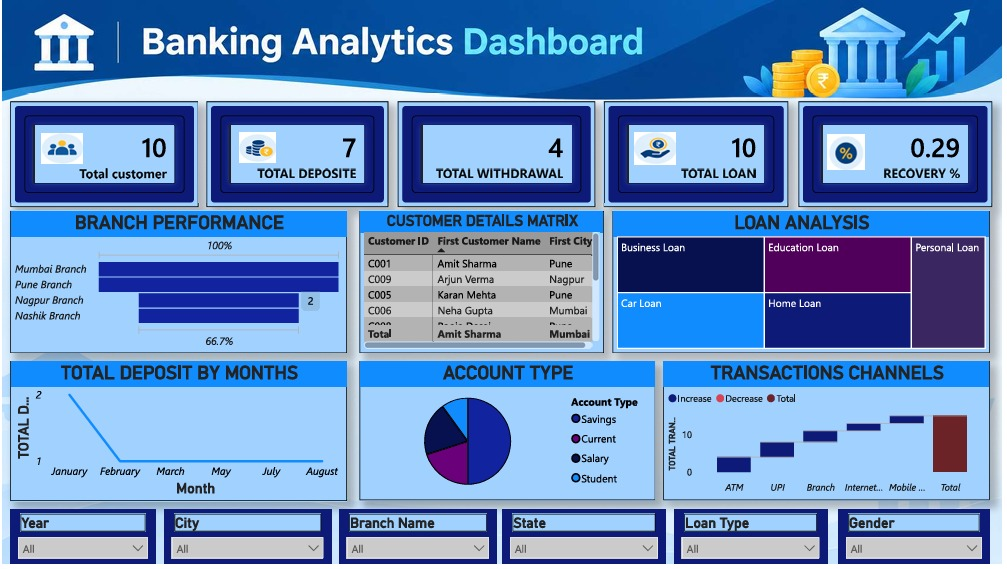

This screenshot's page, from the dashboard's own definition file:
{"tool":"powerbi","page":{"name":"DASHBOARD","canvas":[1280,720],"ordinal":0},"visuals":[{"type":"image","box":[0,0,1280,720],"z":0},{"type":"cardVisual","fields":{"Data":["Customer Table.Total customer"]},"box":[10,128.6,241.4,135.7],"z":1},{"type":"cardVisual","fields":{"Data":["Transaction.TOTAL DEPOSITE"]},"box":[261.4,128.6,232.9,135.7],"z":2},{"type":"cardVisual","fields":{"Data":["Transaction.TOTAL WITHDRAW"]},"box":[505.7,128.6,252.9,135.7],"z":3},{"type":"cardVisual","fields":{"Data":["Loan.TOTAL LOAN"]},"box":[770,128.6,235.7,135.7],"z":4},{"type":"cardVisual","fields":{"Data":["Loan.RECOVERY %"]},"box":[1018.6,128.6,248.6,135.7],"z":5},{"type":"image","box":[50,162.9,52.9,52.9],"z":6},{"type":"image","box":[302.9,160,48.6,55.7],"z":7},{"type":"image","box":[808.6,162.9,54.3,52.9],"z":8},{"type":"image","box":[1055.7,162.9,48.6,62.9],"z":9},{"type":"funnel","title":"BRANCH PERFORMANCE","fields":{"Category":["Branch.Branch Name"],"Y":["Customer Table.Total customer"]},"box":[10,268.6,431.4,182.9],"z":10},{"type":"pivotTable","title":"CUSTOMER DETAILS MATRIX","fields":{"Rows":["Customer Table.Customer ID"],"Values":["Min(Customer Table.Customer Name)","Min(Customer Table.City)"]},"box":[457.1,268.6,312.9,182.9],"z":11},{"type":"treemap","title":"LOAN ANALYSIS","fields":{"Group":["Loan.Loan Type"],"Values":["Loan.TOTAL LOAN"]},"box":[781.4,268.6,482.9,182.9],"z":12},{"type":"lineChart","title":"TOTAL DEPOSIT BY MONTHS","fields":{"Category":["Account.Open Date.Variation.Date Hierarchy.Month"],"Y":["Transaction.TOTAL DEPOSITE"]},"box":[10,461.4,431.4,178.6],"z":13},{"type":"pieChart","title":"ACCOUNT TYPE","fields":{"Category":["Account.Account Type"],"Y":["Account.TOTAL ACCOUNT"]},"box":[457.1,461.4,378.6,177.1],"z":14},{"type":"waterfallChart","title":"TRANSACTIONS CHANNELS ","fields":{"Category":["Transaction.Channel"],"Y":["Account.TOTAL TRANSACTIONS"]},"box":[845.7,461.4,418.6,177.1],"z":15},{"type":"slicer","fields":{"Values":["Account.Open Date.Variation.Date Hierarchy.Year"]},"box":[10,651.4,185.7,68.6],"z":16},{"type":"slicer","fields":{"Values":["Branch.City"]},"box":[207.1,651.4,214.3,68.6],"z":17},{"type":"slicer","fields":{"Values":["Branch.Branch Name"]},"box":[431.4,651.4,201.4,68.6],"z":18},{"type":"slicer","fields":{"Values":["Customer Table.State"]},"box":[640,651.4,208.6,68.6],"z":19},{"type":"slicer","fields":{"Values":["Loan.Loan Type"]},"box":[860,651.4,195.7,68.6],"z":20},{"type":"slicer","fields":{"Values":["Customer Table.Gender"]},"box":[1070,651.4,194.3,68.6],"z":21}]}

Visuals, with their boxes in screenshot pixels (x1, y1, x2, y2), scaled from the page's 1280x720 canvas onto the 1007x569 screenshot:
image: (left=0, top=0, right=1006, bottom=568)
cardVisual - Customer Table.Total customer: (left=8, top=102, right=198, bottom=209)
cardVisual - Transaction.TOTAL DEPOSITE: (left=206, top=102, right=389, bottom=209)
cardVisual - Transaction.TOTAL WITHDRAW: (left=398, top=102, right=597, bottom=209)
cardVisual - Loan.TOTAL LOAN: (left=606, top=102, right=791, bottom=209)
cardVisual - Loan.RECOVERY %: (left=801, top=102, right=997, bottom=209)
image: (left=39, top=129, right=81, bottom=171)
image: (left=238, top=126, right=277, bottom=170)
image: (left=636, top=129, right=679, bottom=171)
image: (left=831, top=129, right=869, bottom=178)
"BRANCH PERFORMANCE" funnel: (left=8, top=212, right=347, bottom=357)
"CUSTOMER DETAILS MATRIX" pivotTable: (left=360, top=212, right=606, bottom=357)
"LOAN ANALYSIS" treemap: (left=615, top=212, right=995, bottom=357)
"TOTAL DEPOSIT BY MONTHS" lineChart: (left=8, top=365, right=347, bottom=506)
"ACCOUNT TYPE" pieChart: (left=360, top=365, right=657, bottom=505)
"TRANSACTIONS CHANNELS " waterfallChart: (left=665, top=365, right=995, bottom=505)
slicer - Account.Open Date.Variation.Date Hierarchy.Year: (left=8, top=515, right=154, bottom=568)
slicer - Branch.City: (left=163, top=515, right=332, bottom=568)
slicer - Branch.Branch Name: (left=339, top=515, right=498, bottom=568)
slicer - Customer Table.State: (left=504, top=515, right=668, bottom=568)
slicer - Loan.Loan Type: (left=677, top=515, right=831, bottom=568)
slicer - Customer Table.Gender: (left=842, top=515, right=995, bottom=568)
